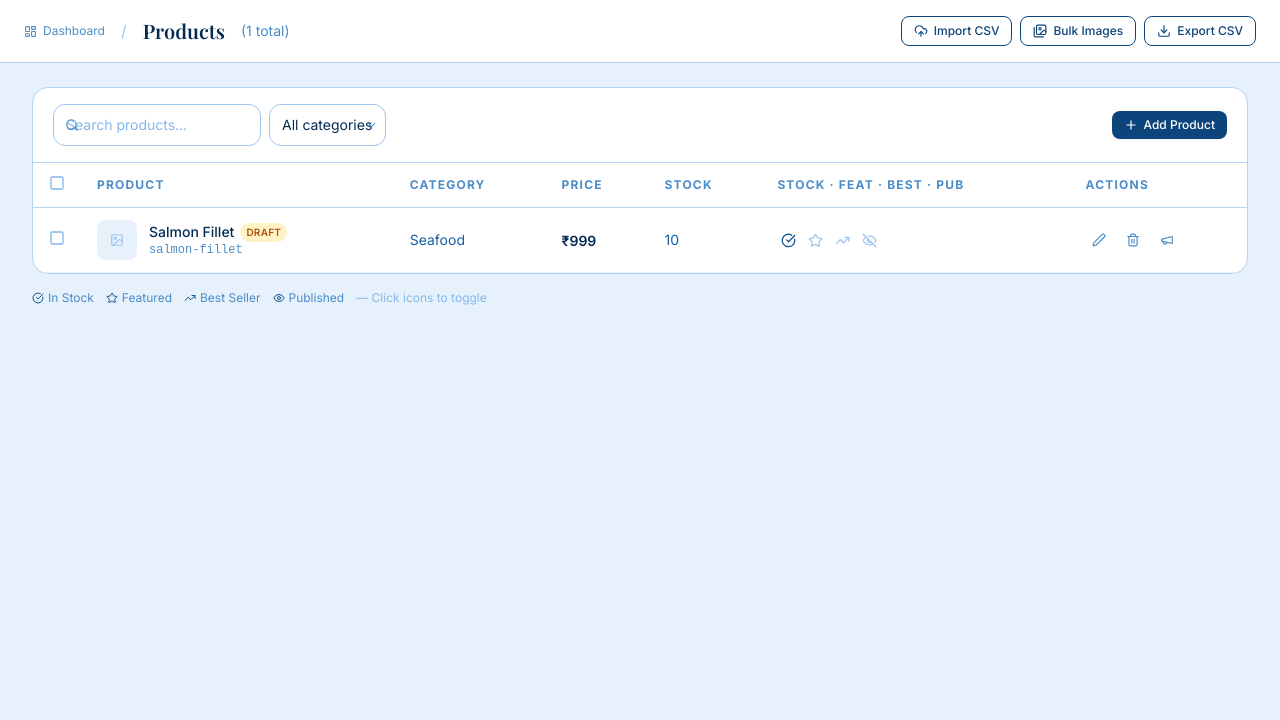
Test: AdminProductsPage — bulk actions › opens the bulk import modal
This screenshot has width=1280, height=720.
Check: the text "Salmon Fillet" is shown, box [149,222,234,242]
Click the button "Import CSV".
click(957, 31)  # box [901,16,1012,46]
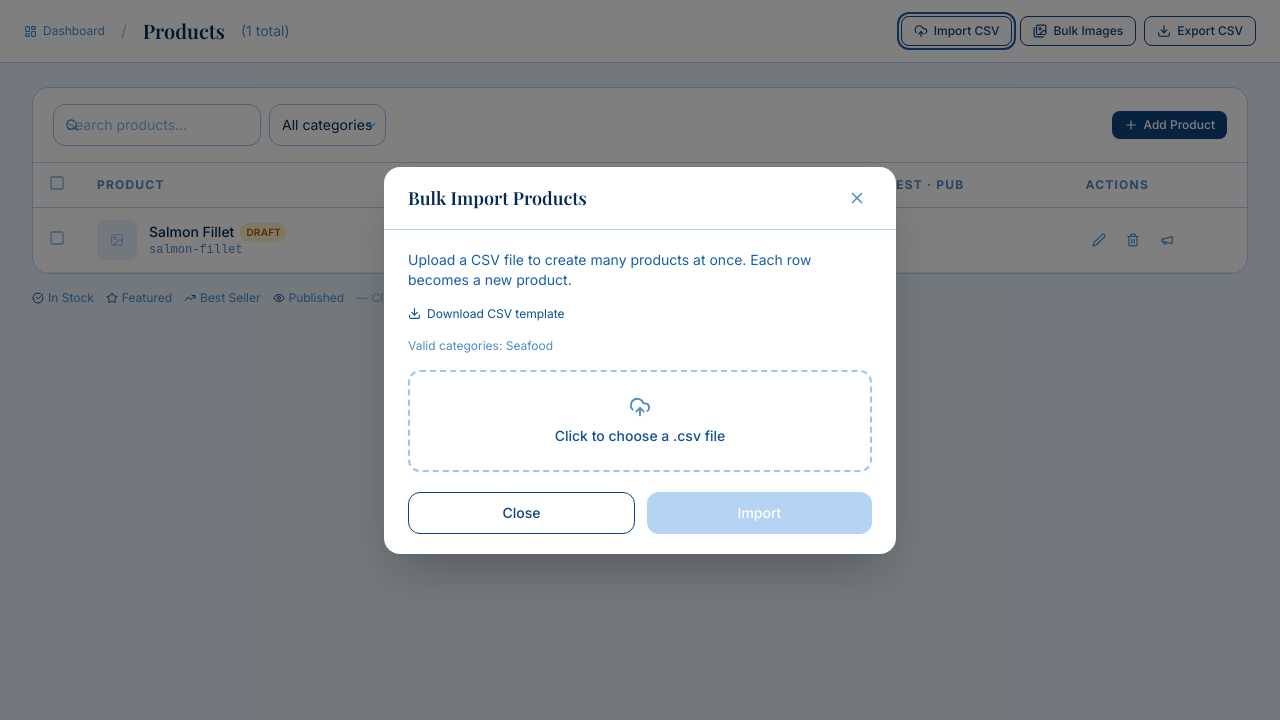
Check: the heading "Bulk Import Products" is shown, box [408,184,587,212]
